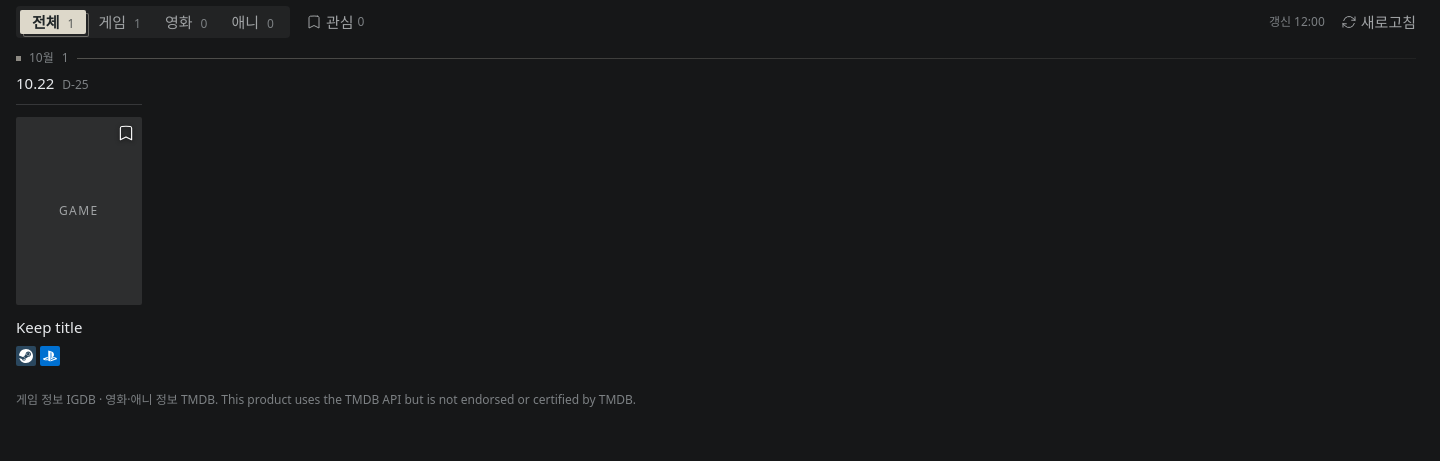
it: server calendar handover › keeps the calendar and status after unavailable
Expected: the text "Keep title" is shown, [16,317,82,337]
Click the button "새로고침": (1378, 22) [1333,8,1424,36]
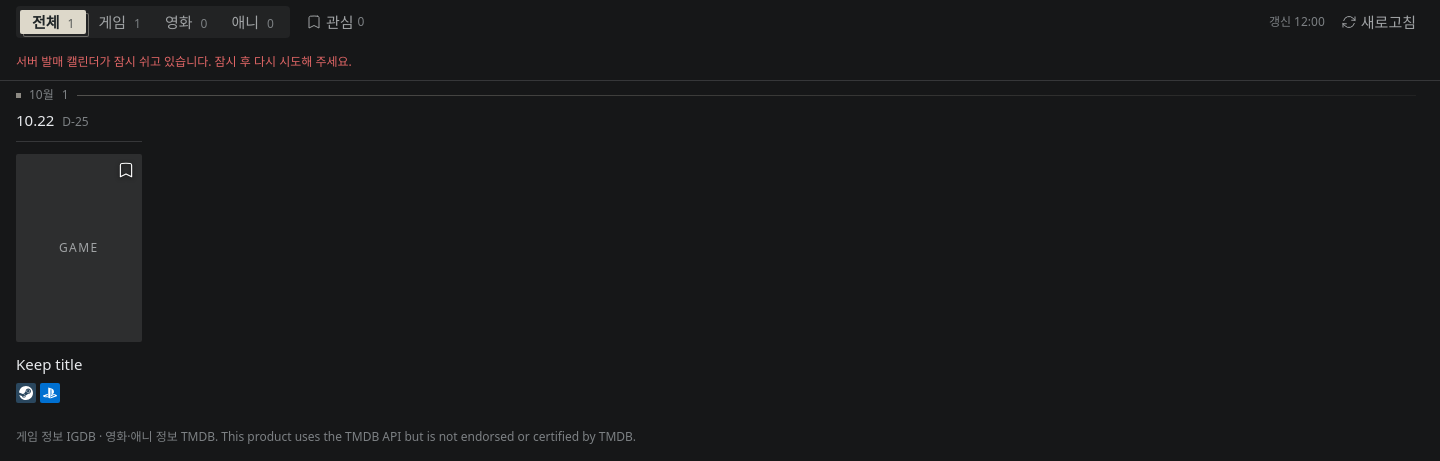
Expected: the text "Keep title" is shown, [16,354,82,374]
Now the message "서버 발매 캘린더가 잠시 쉬고 있습니다. 잠시 후 다시 시도해 주세요." is shown, box [0,44,1439,81]
Now the message shows "잠시", box [16,53,352,70]
